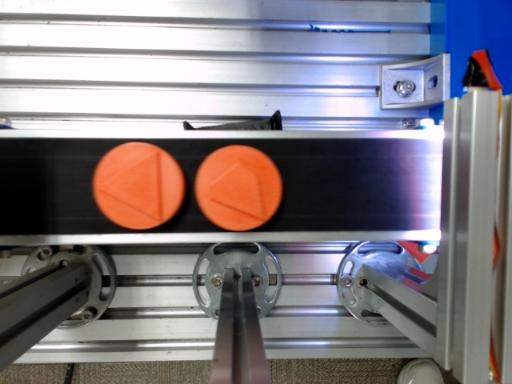Not_Square: (98, 152, 160, 223), (209, 160, 266, 221)
Orange_Waper: (93, 142, 185, 229), (194, 145, 282, 230)
